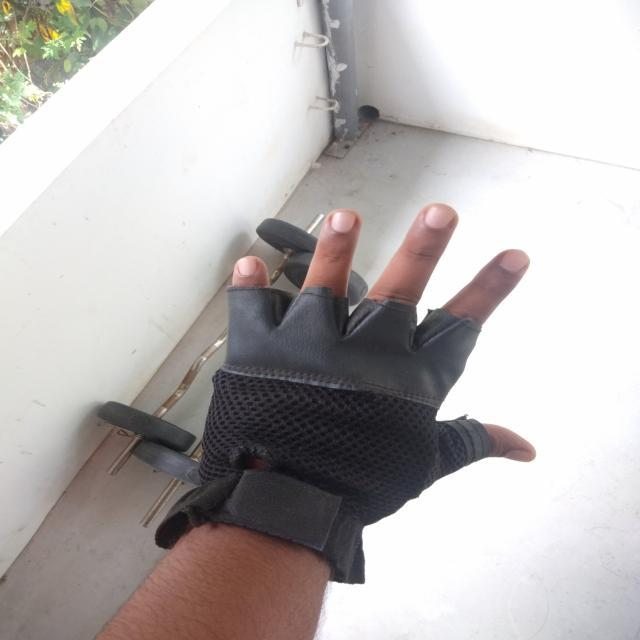glove_hand: (141, 276, 512, 590)
